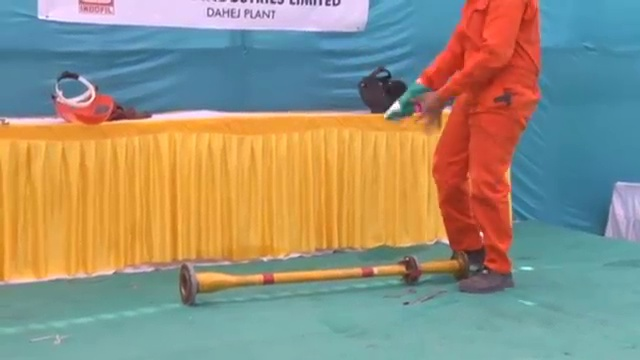person: (382, 1, 550, 295)
